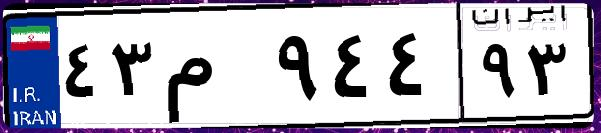3: (525, 38, 570, 115), (110, 28, 158, 98)
4: (385, 28, 445, 110), (330, 28, 385, 110), (57, 26, 110, 100)
9: (270, 28, 330, 110), (475, 38, 525, 113)
م: (158, 20, 270, 120)
